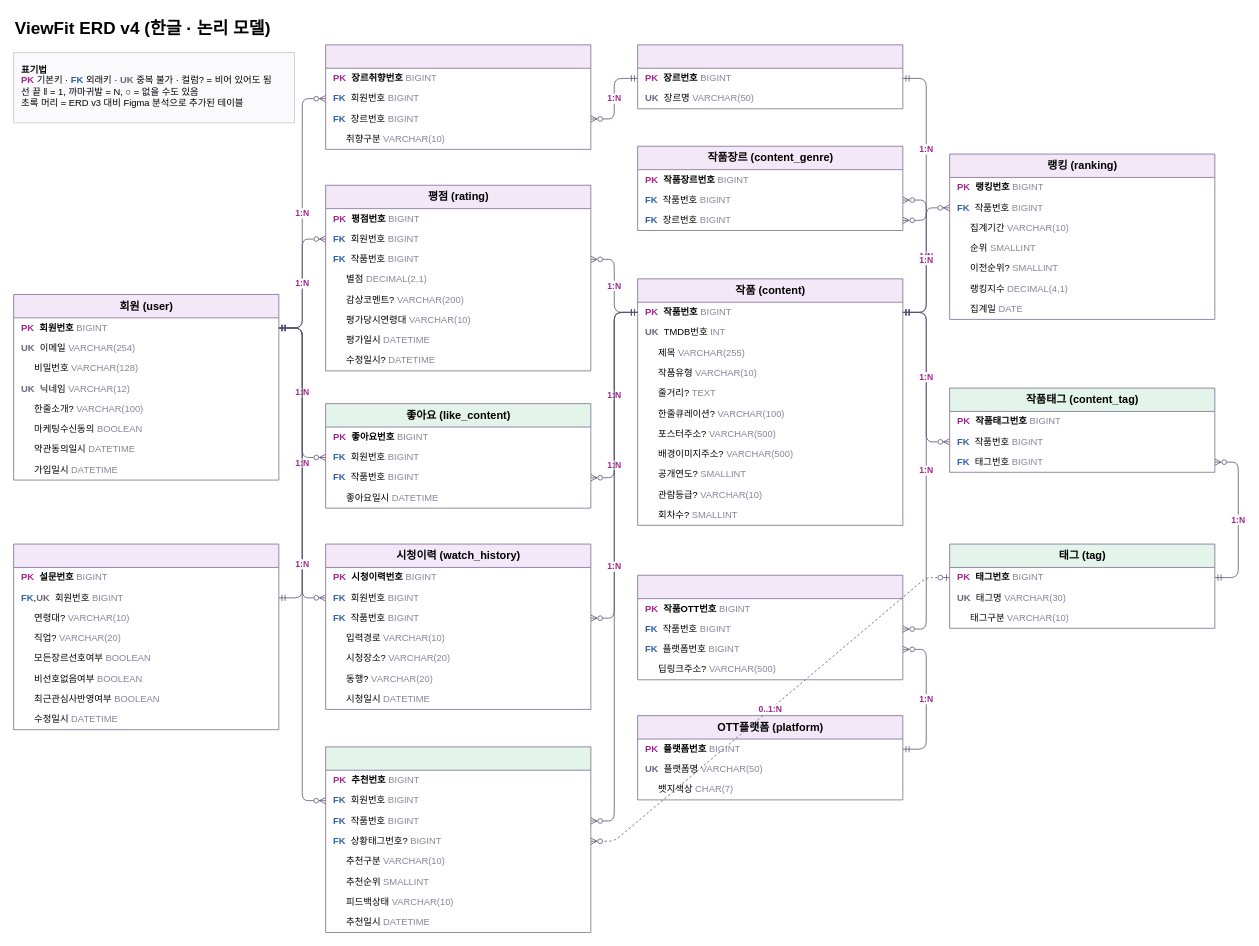
Image size: 1259x946. Some labels were removed from this diagram. The box of each missing label's shape, as (x1, y1, x2, y2) in pixels:
설문 (survey): (13, 543, 279, 730)
작품제공OTT (content_platform): (637, 574, 903, 680)
장르 (genre): (637, 44, 903, 109)
장르취향 (preference): (325, 44, 591, 149)
추천 (recommendation): (325, 746, 591, 932)
